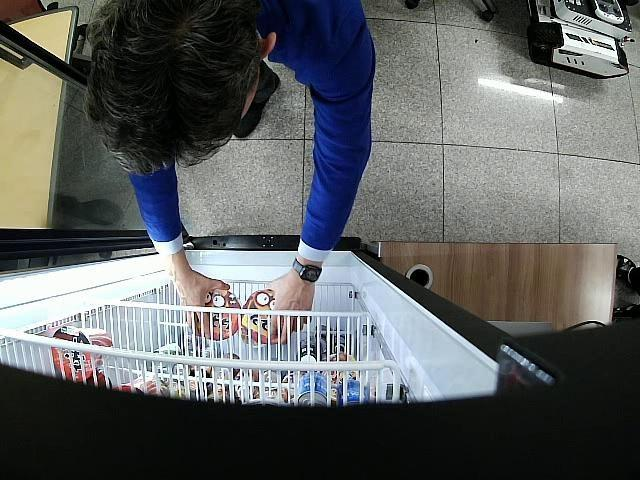05_nuguri_L: (185, 288, 241, 341), (242, 290, 294, 346)
